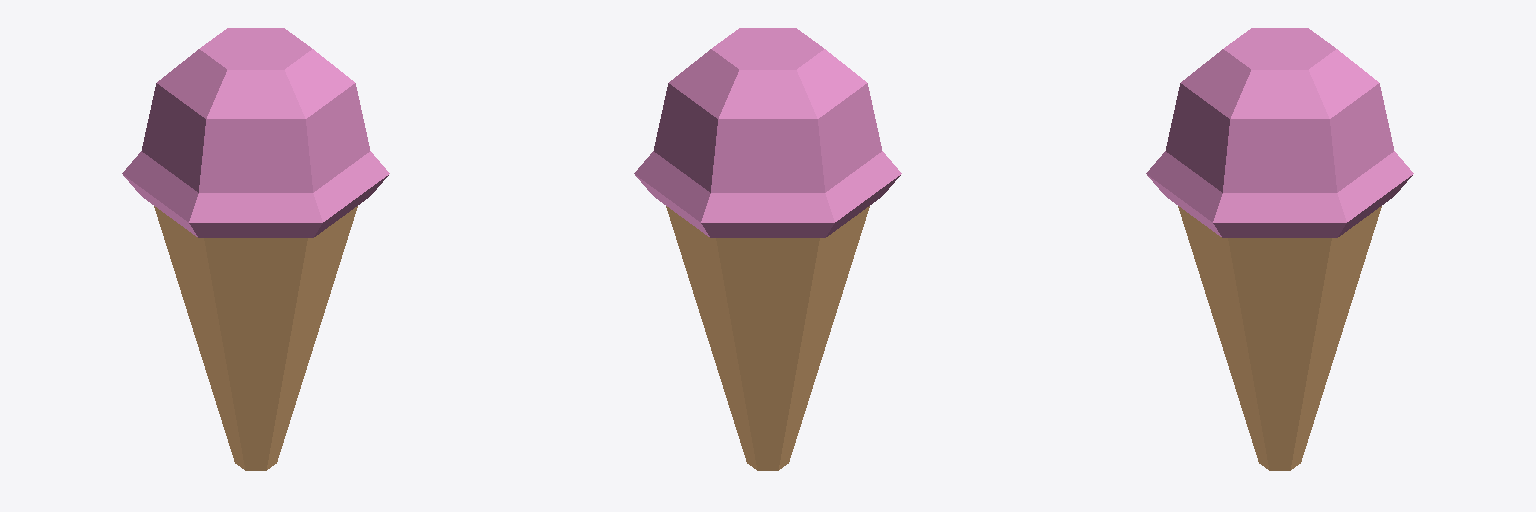
File: iceCream.obj
3 views of the same model, side by side, from view 1: azimuth 30°, elevation 25°; view 2: azimuth 150°, elevation 25°; view 3: azimuth 270°, elevation 25° (orthographic).
Parts seen in each view (by area): view 1: iceCream; view 2: iceCream; view 3: iceCream.
Boxes of the visible parts, x1,y1,x2,y2 form: iceCream: [122, 28, 389, 470]; iceCream: [634, 28, 901, 470]; iceCream: [1146, 28, 1413, 470].
Size of the model in its own units: 0.2352 by 0.4632 by 0.2716.